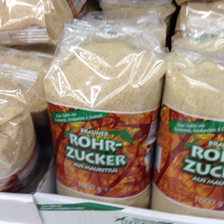tomato_sauce: (44, 41, 163, 210), (150, 52, 224, 221)
